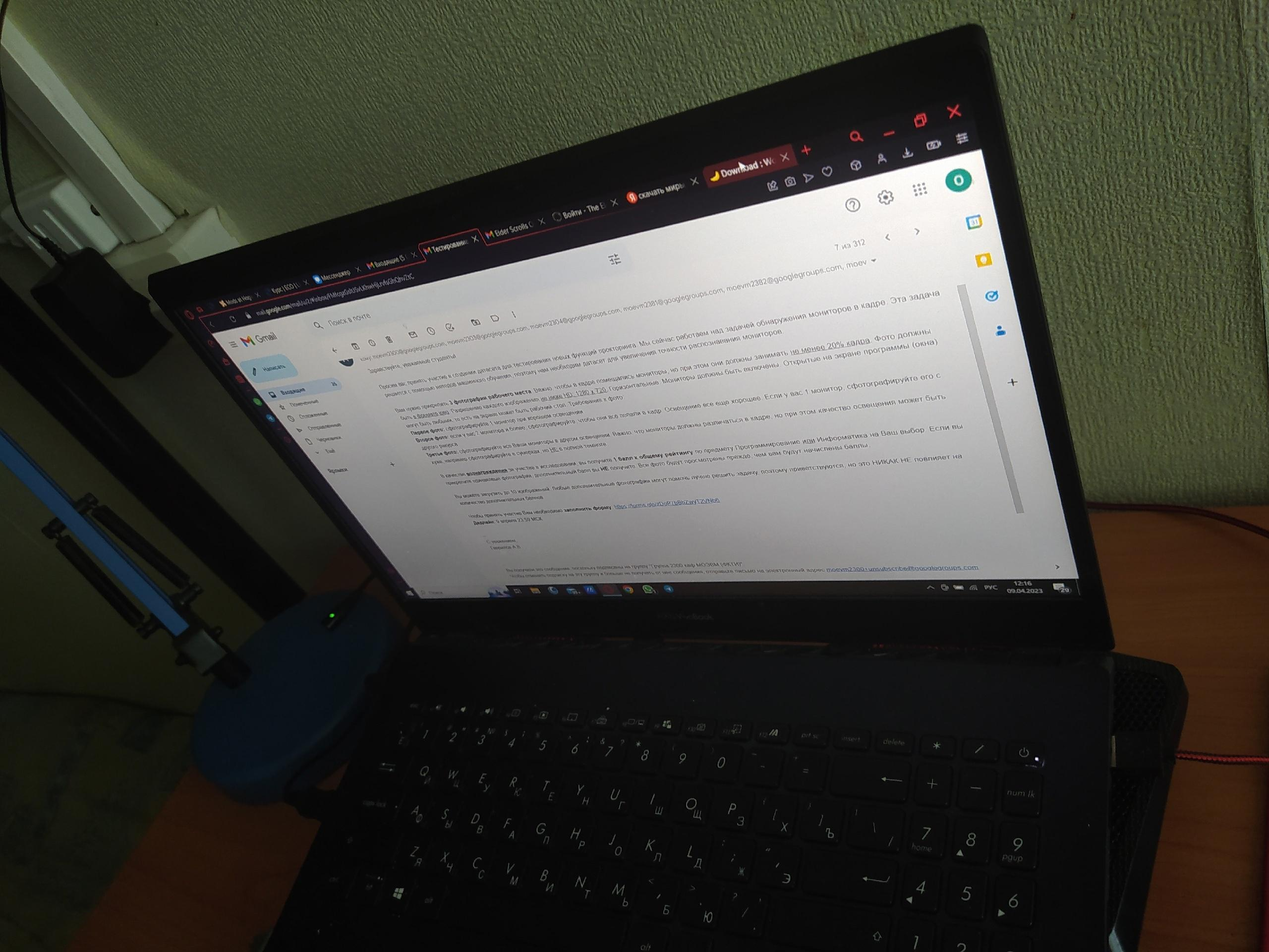monitor: (143, 24, 1116, 638)
